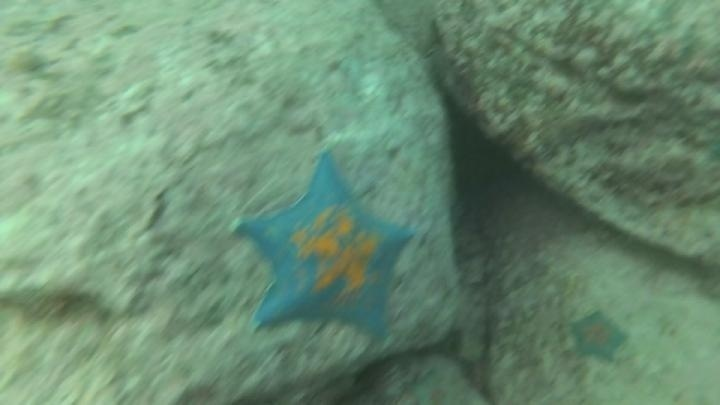starfish: (232, 150, 419, 342), (565, 307, 631, 366)
